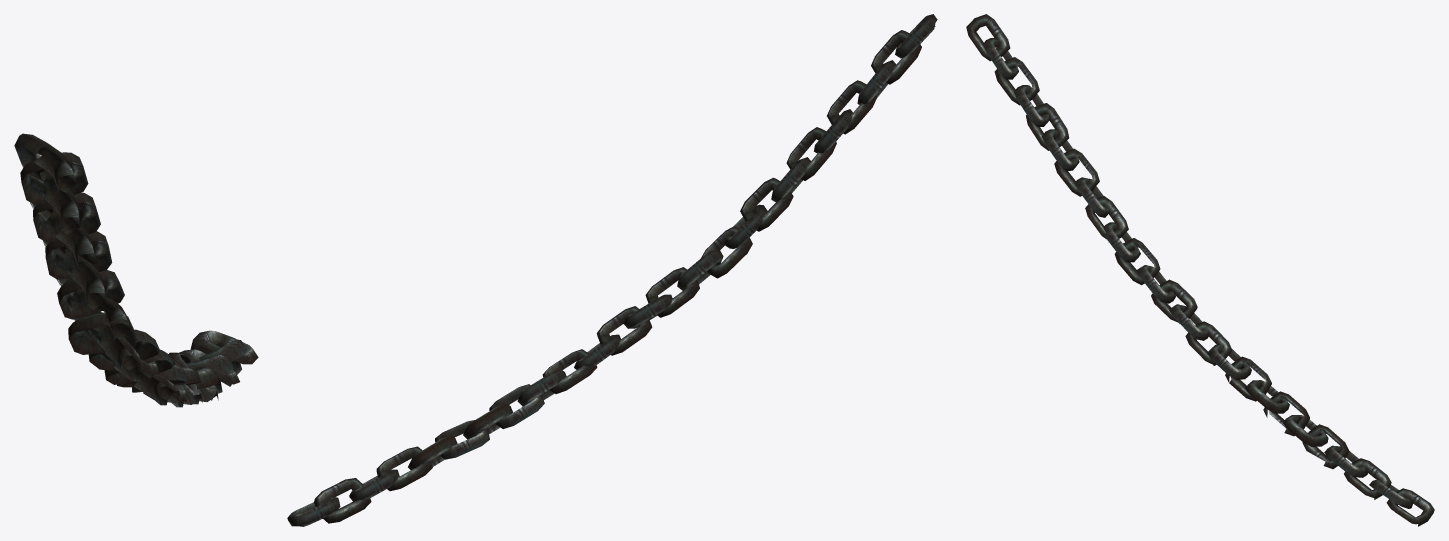
File: S2_Build_XSC120_L1.FBX
The picture shows the model from 3 angles, left to right: view 1: azimuth 30°, elevation 25°; view 2: azimuth 150°, elevation 25°; view 3: azimuth 270°, elevation 25°; orthographic projection. The views are drawn at different scales.
Visible parts, largest first — view 1: S2_Build_XSC120_L1; view 2: S2_Build_XSC120_L1; view 3: S2_Build_XSC120_L1.
Part boxes in pixels (x1,y1,x2,y2): S2_Build_XSC120_L1: [14, 133, 258, 407]; S2_Build_XSC120_L1: [287, 14, 937, 526]; S2_Build_XSC120_L1: [966, 14, 1434, 526].
Bounding box in the file's own units: 5234 × 5270 × 6345.
